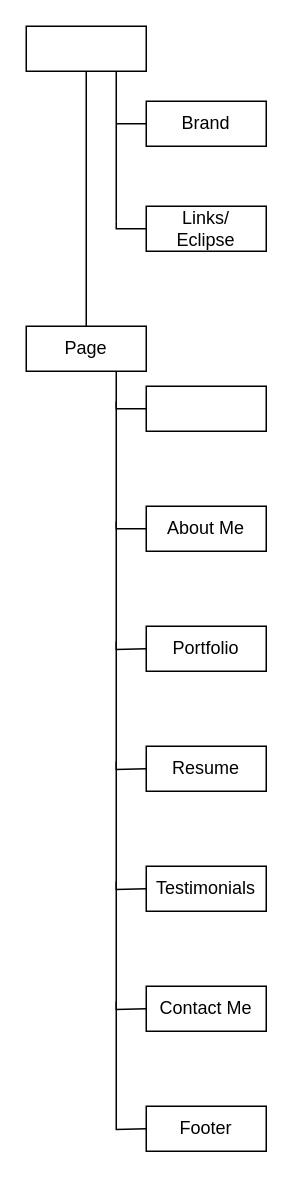
Some shapes in this 293 by 1178 pixel diagram are drawn without their labels. The centre of each missing label's shape, as x and y in pixels:
Header: the point at 205,408
NavBar: the point at 85,48
